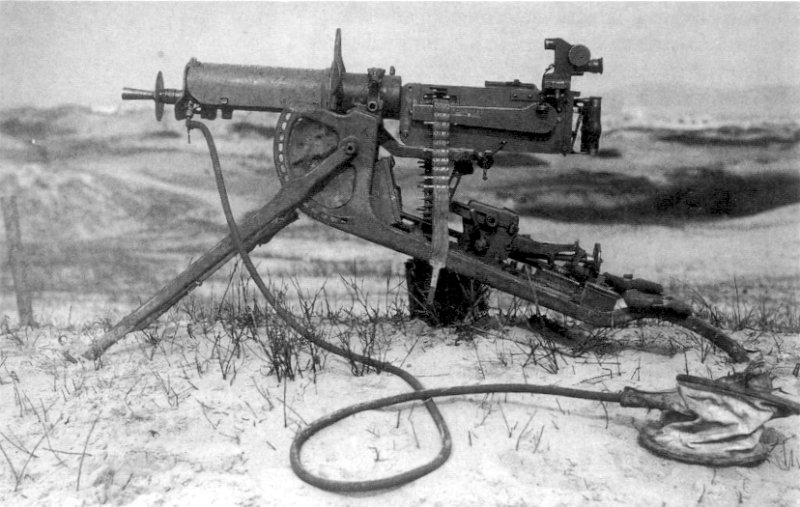rifle: (107, 24, 724, 474)
